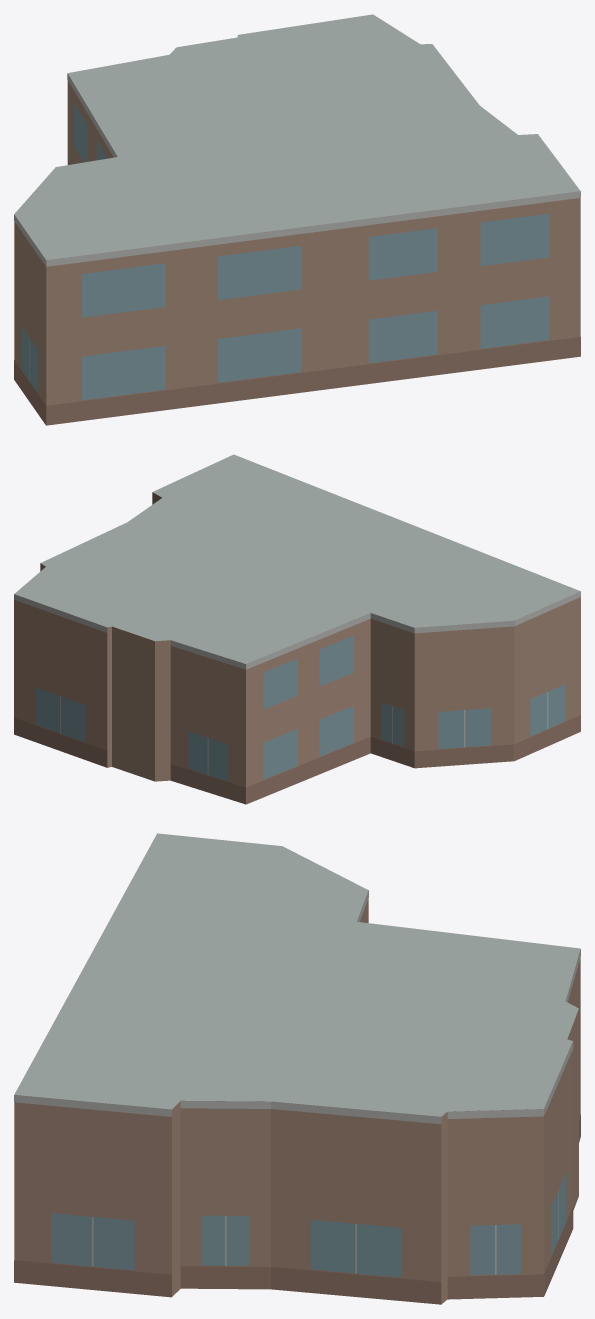
File: survey-upis-32565087.glb
3 views of the same model, one above another, from view 1: azimuth 30°, elevation 25°; view 2: azimuth 150°, elevation 25°; view 3: azimuth 270°, elevation 25° (orthographic). The views are drawn at different scales.
Visible parts, largest first — view 1: survey-upis-32565087.tmp; view 2: survey-upis-32565087.tmp; view 3: survey-upis-32565087.tmp.
Boxes of the visible parts, x1=… form: survey-upis-32565087.tmp: x1=14, y1=14, x2=580, y2=425; survey-upis-32565087.tmp: x1=14, y1=454, x2=580, y2=804; survey-upis-32565087.tmp: x1=14, y1=833, x2=580, y2=1304.
Bounding box in the file's own units: 19.75 × 6.1 × 16.69.
